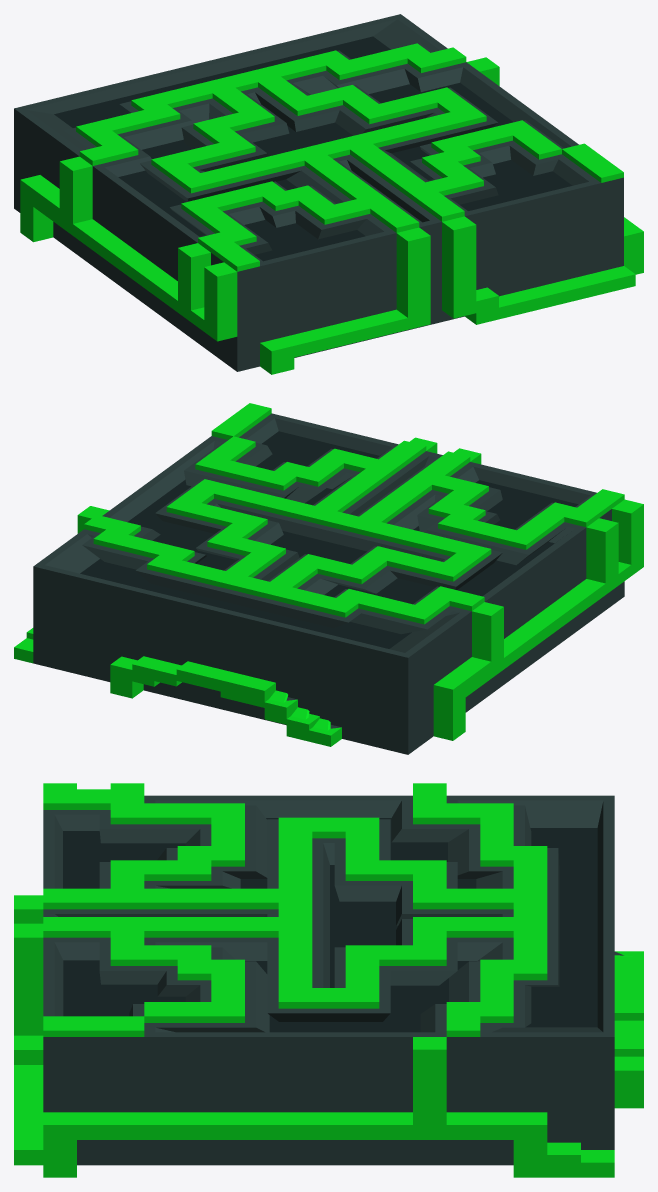
The model's file is Boss3.fbx.
3 renders of one model, top to bottom at view 1: azimuth 30°, elevation 25°; view 2: azimuth 150°, elevation 25°; view 3: azimuth 270°, elevation 25°, orthographic. The views are drawn at different scales.
Parts seen in each view (by area): view 1: Cube; view 2: Cube; view 3: Cube.
Part boxes in pixels (left/top/right/bottom): Cube: left=14, top=14, right=643, bottom=374; Cube: left=14, top=403, right=643, bottom=754; Cube: left=14, top=783, right=643, bottom=1177.
Bounding box in the file's own units: 110 × 26.02 × 110.
2 materials, 1 textured.
